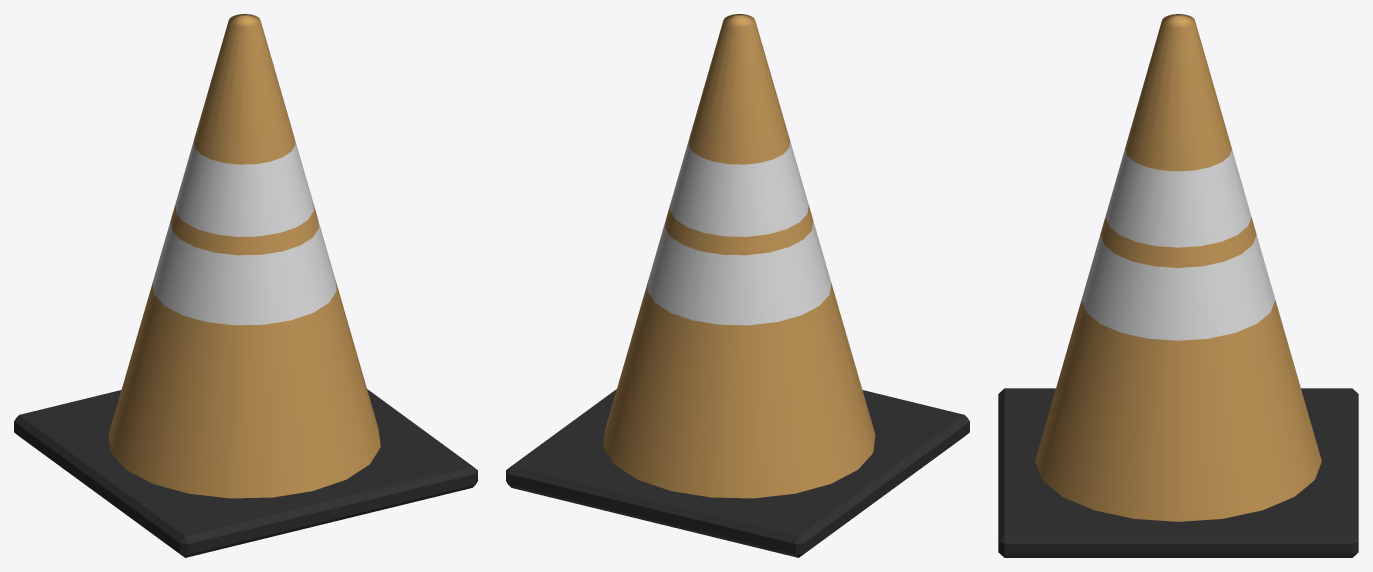
The model's file is Road Cone 2.fbx.
3 renders of one model, left to right at view 1: azimuth 30°, elevation 25°; view 2: azimuth 150°, elevation 25°; view 3: azimuth 270°, elevation 25°, orthographic. The views are drawn at different scales.
Visible parts, largest first — view 1: pCone3; view 2: pCone3; view 3: pCone3.
Boxes of the visible parts, x1,y1,x2,y2 form: pCone3: (14,14,477,557); pCone3: (506,14,969,557); pCone3: (998,14,1358,557).
Size of the model in its own units: 15.11 by 21.62 by 15.11.
